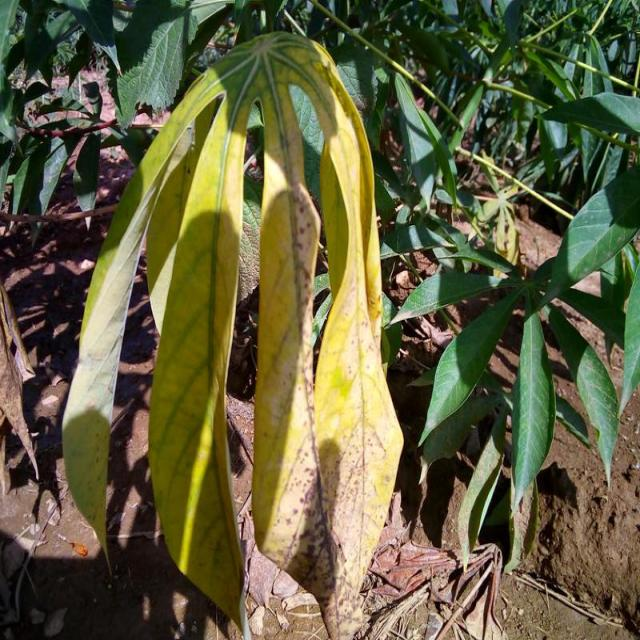cassava leaf: (62, 29, 406, 638)
